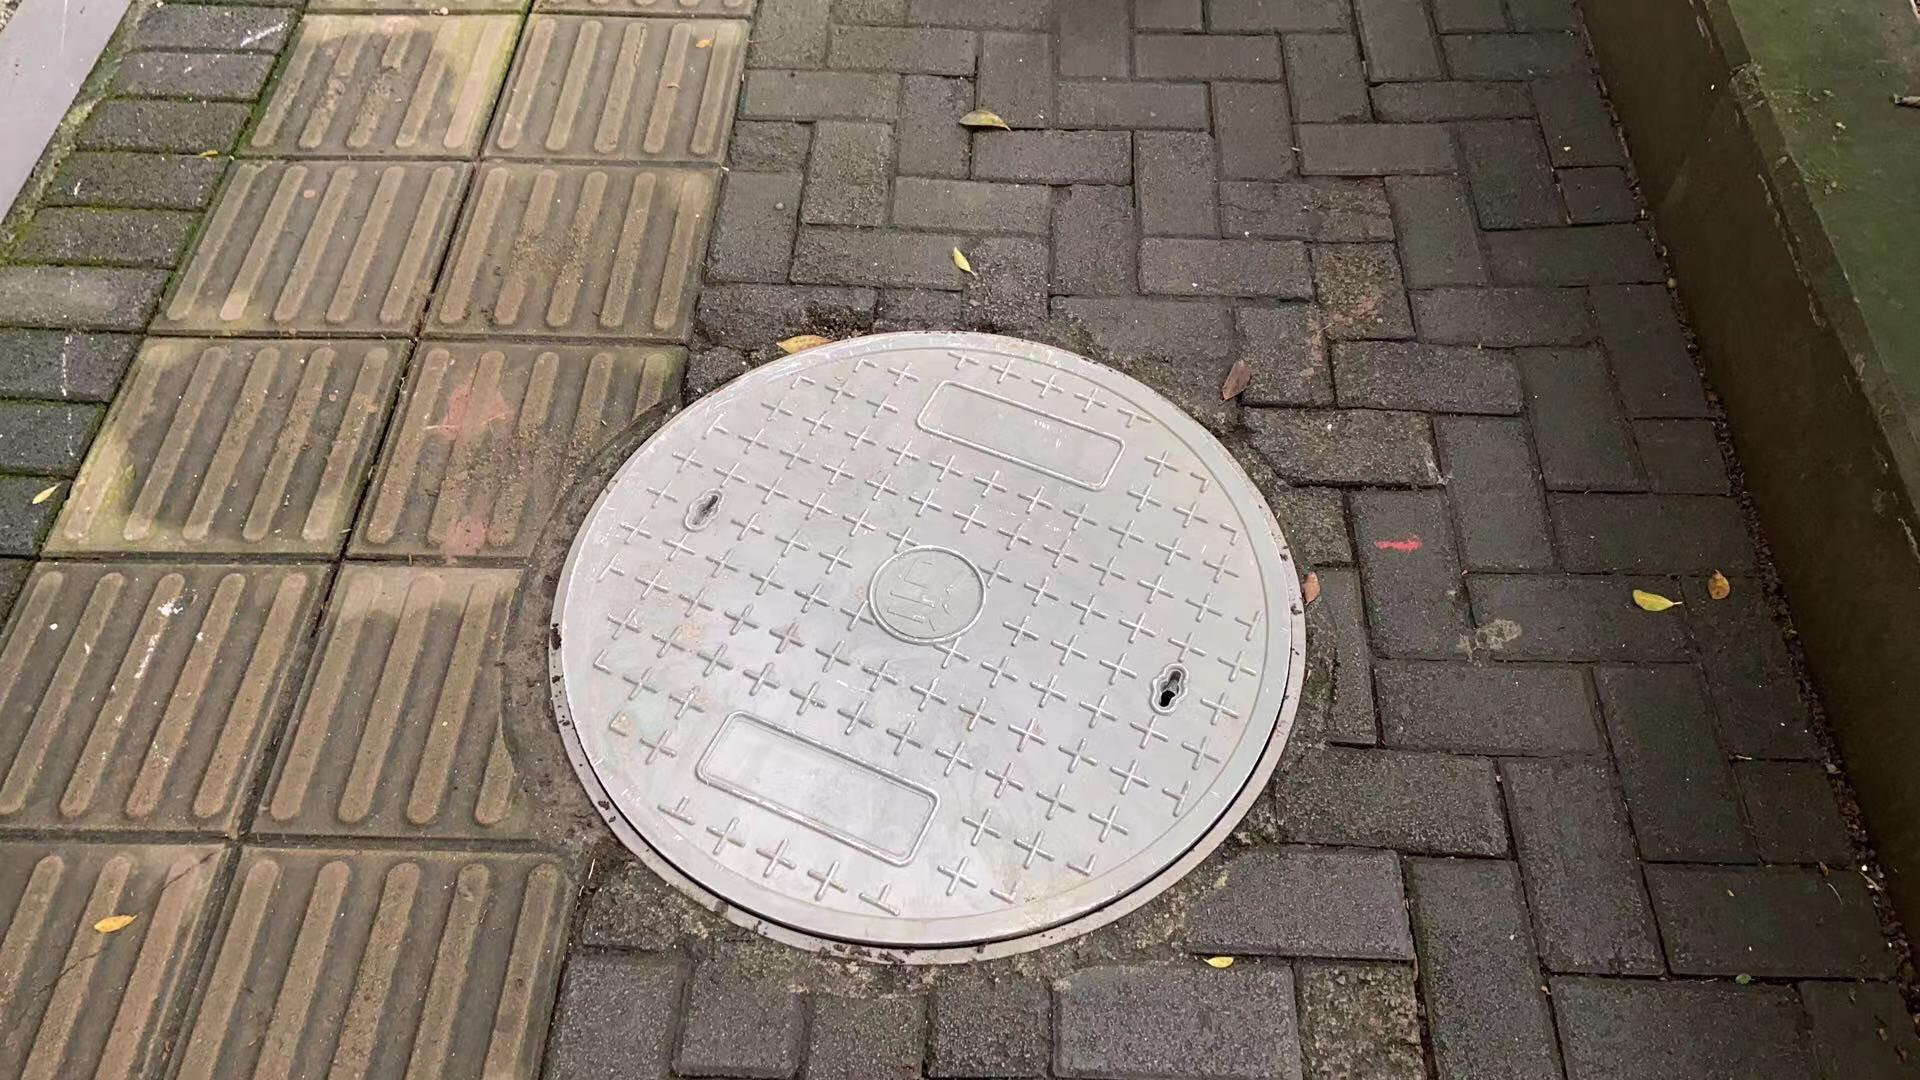wellcover: (510, 258, 1337, 1038)
